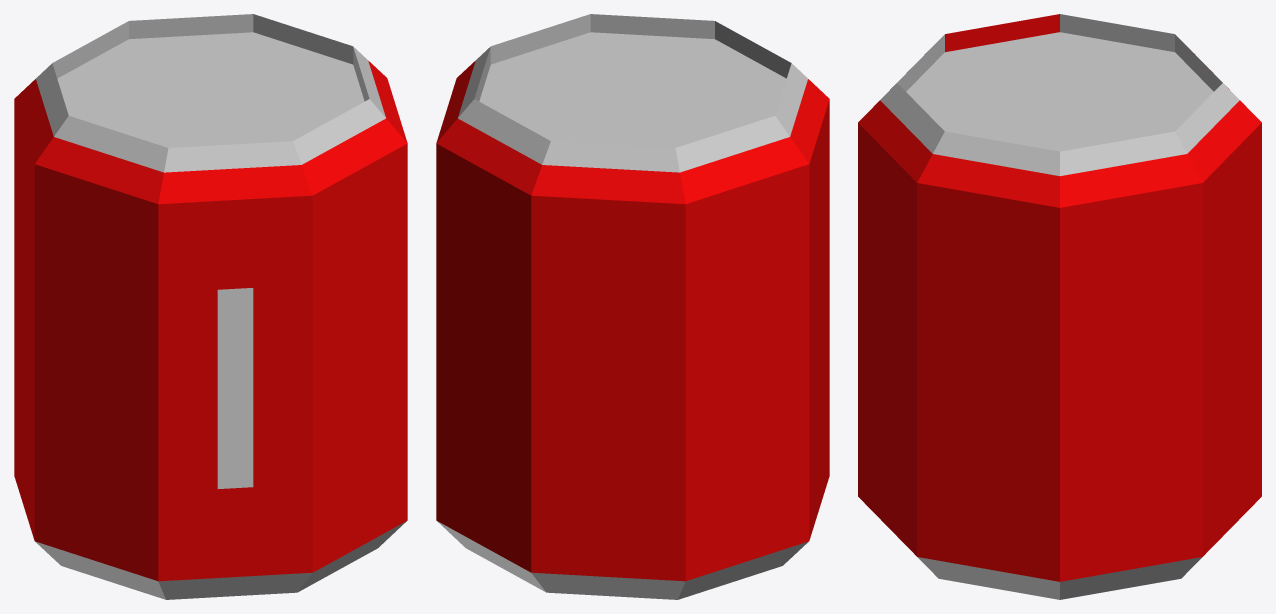
The model's file is latinha.fbx.
The picture shows the model from 3 angles, left to right: view 1: azimuth 30°, elevation 25°; view 2: azimuth 150°, elevation 25°; view 3: azimuth 270°, elevation 25°; orthographic projection.
Parts seen in each view (by area): view 1: Cube; view 2: Cube; view 3: Cube.
Part boxes in pixels (x1=…): Cube: x1=14, y1=14, x2=407, y2=599; Cube: x1=436, y1=14, x2=829, y2=599; Cube: x1=858, y1=14, x2=1261, y2=599.
Bounding box in the file's own units: 200 × 243 × 200.
